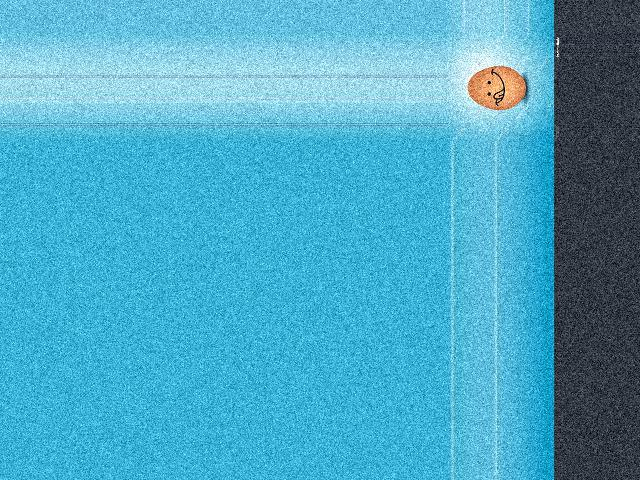egg: (467, 66, 525, 110)
